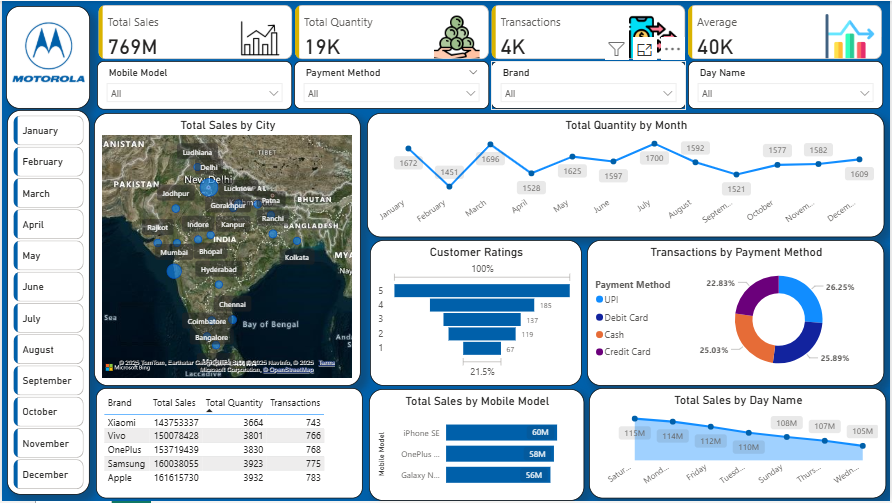

The page's visual inventory and layout, read from the dashboard file:
{"tool":"powerbi","page":{"name":"Page 1","canvas":[1280,720],"ordinal":0},"visuals":[{"type":"shape","box":[5.5,6.9,120.8,148.2],"z":0},{"type":"image","box":[9.6,16.5,113.9,116.6],"z":1000},{"type":"shape","box":[6.9,156.4,119.4,554.4],"z":2000},{"type":"advancedSlicerVisual","fields":{"Values":["Sales_Data.Date.Variation.Date Hierarchy.Month"]},"box":[11,160.5,111.1,548.9],"z":3000},{"type":"cardVisual","fields":{"Data":["Sales_Data.Total Sales","Sales_Data.Total Quantity","Sales_Data.Transactions","Sales_Data.Average"]},"box":[134,5.6,1140.1,83.7],"z":4000},{"type":"map","fields":{"Category":["Sales_Data.City"],"Size":["Sales_Data.Total Sales"]},"box":[132.9,160.8,384.1,393.1],"z":5000},{"type":"lineChart","fields":{"Y":["Sales_Data.Total Quantity"],"Category":["Sales_Data.Date.Variation.Date Hierarchy.Month","Sales_Data.Date.Variation.Date Hierarchy.Day"]},"box":[525.9,160.8,744.8,178.7],"z":6000},{"type":"clusteredBarChart","fields":{"Category":["Sales_Data.Mobile Model"],"Y":["Sales_Data.Total Sales"]},"box":[528.3,558.5,310.1,160.5],"z":7000},{"type":"donutChart","fields":{"Category":["Sales_Data.Payment Method"],"Y":["Sales_Data.Transactions"]},"box":[842.5,344.4,428.1,209.9],"z":8000},{"type":"funnel","title":"Customer Ratings","fields":{"Category":["Sales_Data.Customer Ratings"],"Y":["CountNonNull(Sales_Data.Customer Ratings)"]},"box":[529.7,344.4,304.6,209.9],"z":9000},{"type":"areaChart","fields":{"Category":["Sales_Data.Day Name"],"Y":["Sales_Data.Total Sales"]},"box":[845.3,557.1,428.1,159.2],"z":10000},{"type":"tableEx","fields":{"Values":["Sales_Data.Brand","Sales_Data.Total Sales","Sales_Data.Total Quantity","Sales_Data.Transactions"]},"box":[135.8,557.1,384.2,159.2],"z":11000},{"type":"slicer","fields":{"Values":["Sales_Data.Mobile Model"]},"box":[136.2,87.1,281.4,70.3],"z":12000},{"type":"slicer","fields":{"Values":["Sales_Data.Payment Method"]},"box":[421,87.1,281.4,69.2],"z":13000},{"type":"slicer","fields":{"Values":["Sales_Data.Brand"]},"box":[703.5,87.1,281.4,69.2],"z":14000},{"type":"slicer","fields":{"Values":["Sales_Data.Day Name"]},"box":[988.2,87.1,281.4,69.2],"z":15000}]}

Visuals, with their boxes in screenshot pixels (x1, y1, x2, y2), scaled from the page's 1280x720 canvas onto the 892x503 screenshot:
shape: <bbox>4, 5, 88, 108</bbox>
image: <bbox>7, 12, 86, 93</bbox>
shape: <bbox>5, 109, 88, 497</bbox>
advancedSlicerVisual - Sales_Data.Date.Variation.Date Hierarchy.Month: <bbox>8, 112, 85, 496</bbox>
cardVisual - Sales_Data.Total Sales x Sales_Data.Total Quantity: <bbox>93, 4, 888, 62</bbox>
map - Sales_Data.City x Sales_Data.Total Sales: <bbox>93, 112, 360, 387</bbox>
lineChart - Sales_Data.Total Quantity x Sales_Data.Date.Variation.Date Hierarchy.Month: <bbox>366, 112, 886, 237</bbox>
clusteredBarChart - Sales_Data.Mobile Model x Sales_Data.Total Sales: <bbox>368, 390, 584, 502</bbox>
donutChart - Sales_Data.Payment Method x Sales_Data.Transactions: <bbox>587, 241, 885, 387</bbox>
"Customer Ratings" funnel: <bbox>369, 241, 581, 387</bbox>
areaChart - Sales_Data.Day Name x Sales_Data.Total Sales: <bbox>589, 389, 887, 500</bbox>
tableEx - Sales_Data.Brand x Sales_Data.Total Sales: <bbox>95, 389, 362, 500</bbox>
slicer - Sales_Data.Mobile Model: <bbox>95, 61, 291, 110</bbox>
slicer - Sales_Data.Payment Method: <bbox>293, 61, 489, 109</bbox>
slicer - Sales_Data.Brand: <bbox>490, 61, 686, 109</bbox>
slicer - Sales_Data.Day Name: <bbox>689, 61, 885, 109</bbox>
